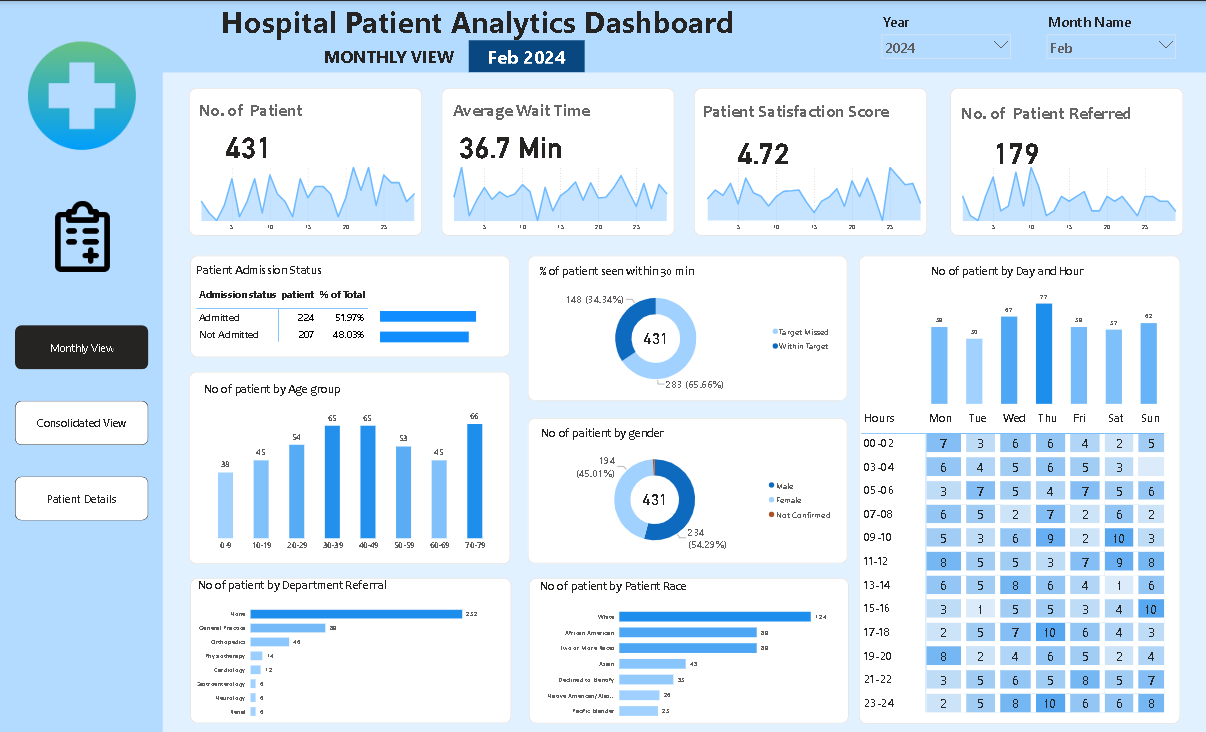

The dashboard page shown, as its layout file describes it:
{"tool":"powerbi","page":{"name":"Monthly View","canvas":[2300,1400],"ordinal":0},"visuals":[{"type":"shape","box":[0,0,310,1400],"z":0},{"type":"shape","box":[309.6,0,1990.7,140],"z":1000},{"type":"textbox","box":[309.6,0,1990.7,140.3],"z":2000},{"type":"textbox","box":[585,83.3,310,57],"z":3000},{"type":"shape","box":[360,170,445,282.5],"z":4000},{"type":"cardVisual","fields":{"Data":["Hospital ER_Data.No of patient"]},"box":[340,222.5,265,122.5],"z":5000},{"type":"slicer","fields":{"Values":["Data Table.Year"]},"box":[1670,22.5,266.1,96.8],"z":6000},{"type":"slicer","fields":{"Values":["Data Table.Month Name"]},"box":[1983.4,21.8,266.1,96.8],"z":7000},{"type":"textbox","box":[360,187.5,355,67.5],"z":8000},{"type":"areaChart","fields":{"Category":["Data Table.Date.Variation.Date Hierarchy.Day"],"Y":["Hospital ER_Data.No of patient"]},"box":[370,307.5,435,145],"z":9000},{"type":"cardVisual","fields":{"Data":["Min(Data Table.Month & Year)"]},"box":[893,79,221,61],"z":10000},{"type":"shape","box":[840,170,445,282.5],"z":11000},{"type":"cardVisual","fields":{"Data":["Hospital ER_Data.Average wait time"]},"box":[840,222.5,265,122.5],"z":12000},{"type":"textbox","box":[850,187.5,355,67.5],"z":13000},{"type":"areaChart","fields":{"Category":["Data Table.Date.Variation.Date Hierarchy.Day"],"Y":["Avg(Hospital ER_Data.Patient Waittime)"]},"box":[850,307.5,435,145],"z":14000},{"type":"shape","box":[1322.5,170,445,282.5],"z":15000},{"type":"cardVisual","fields":{"Data":["Avg(Hospital ER_Data.Patient Satisfaction Score)"]},"box":[1322.5,232.5,265,122.5],"z":16000},{"type":"textbox","box":[1332.5,190,377.5,67.5],"z":17000},{"type":"areaChart","fields":{"Category":["Data Table.Date.Variation.Date Hierarchy.Day"],"Y":["Avg(Hospital ER_Data.Patient Satisfaction Score)"]},"box":[1332.5,307.5,435,145],"z":18000},{"type":"shape","box":[1810,170,445,282.5],"z":19000},{"type":"cardVisual","fields":{"Data":["Hospital ER_Data.No of Referred"]},"box":[1802.5,232.5,265,122.5],"z":20000},{"type":"textbox","box":[1820,192.5,355,67.5],"z":21000},{"type":"areaChart","fields":{"Category":["Data Table.Date.Variation.Date Hierarchy.Day"],"Y":["Hospital ER_Data.No of Referred"]},"box":[1820,307.5,435,145],"z":22000},{"type":"shape","box":[362.5,487.5,610,195],"z":23000},{"type":"pivotTable","title":"Patient Admission Status","fields":{"Rows":["Hospital ER_Data.Admission status"],"Values":["Hospital ER_Data.No of patient","Divide(Hospital ER_Data.No of patient, ScopedEval(Hospital ER_Data.No of patient, []))"]},"box":[370,503,589,180],"z":24000},{"type":"barChart","fields":{"Category":["Hospital ER_Data.Admission status"],"Y":["Hospital ER_Data.No of patient"]},"box":[720,562.5,255,120],"z":25000},{"type":"shape","box":[360,708.8,613,367.4],"z":26000},{"type":"clusteredColumnChart","fields":{"Category":["Hospital ER_Data.Age group"],"Y":["Hospital ER_Data.No of patient"]},"box":[382.5,727.5,569.6,332.6],"z":27000},{"type":"shape","box":[362.5,1102.5,612.5,277.5],"z":28000},{"type":"clusteredBarChart","fields":{"Category":["Hospital ER_Data.Department Referral"],"Y":["Hospital ER_Data.No of patient"]},"box":[372,1102,591,279],"z":29000},{"type":"shape","box":[1004,488,610,278],"z":30000},{"type":"donutChart","title":"% of patient seen within 30 min","fields":{"Category":["Hospital ER_Data.Waittime status"],"Y":["Hospital ER_Data.No of patient"]},"box":[1024,504,570,246],"z":31000},{"type":"shape","box":[1005.5,798.2,610,278],"z":32000},{"type":"donutChart","title":"No of paitient by gender","fields":{"Category":["Hospital ER_Data.Patient Gender"],"Y":["Hospital ER_Data.No of patient"]},"box":[1025.5,812.7,570,246],"z":33000},{"type":"shape","box":[1007.3,1101.8,610,278],"z":34000},{"type":"clusteredBarChart","fields":{"Category":["Hospital ER_Data.Patient Race"],"Y":["Hospital ER_Data.No of patient"]},"box":[1023.6,1103.6,572.7,278.2],"z":35000},{"type":"shape","box":[1636.4,487.3,612.7,892.7],"z":36000},{"type":"pivotTable","title":"% of patient seen within 30 min","fields":{"Columns":["Data Table.Day column"],"Rows":["Hospital ER_Data.Waittime Interval"],"Values":["Hospital ER_Data.No of patient"]},"box":[1636.4,776.4,609.1,600],"z":37000},{"type":"columnChart","title":"No of patient by Day and Hour","fields":{"Category":["Data Table.Day column"],"Y":["Hospital ER_Data.No of patient"]},"box":[1768,504,442,272],"z":38000},{"type":"image","box":[50,80,212,206],"z":39000},{"type":"image","box":[56.5,369.6,200,166.7],"z":40000},{"type":"pageNavigator","box":[28.3,621.7,254.3,373.9],"z":40001}]}

Visuals, with their boxes in screenshot pixels (x1, y1, x2, y2), scaled from the page's 2300x1400 canvas onto the 1206x732 screenshot:
shape: (0, 0, 163, 731)
shape: (162, 0, 1205, 73)
textbox: (162, 0, 1205, 73)
textbox: (307, 44, 469, 73)
shape: (189, 89, 422, 237)
cardVisual - Hospital ER_Data.No of patient: (178, 116, 317, 180)
slicer - Data Table.Year: (876, 12, 1015, 62)
slicer - Data Table.Month Name: (1040, 11, 1180, 62)
textbox: (189, 98, 375, 133)
areaChart - Data Table.Date.Variation.Date Hierarchy.Day x Hospital ER_Data.No of patient: (194, 161, 422, 237)
cardVisual - Min(Data Table.Month & Year): (468, 41, 584, 73)
shape: (440, 89, 674, 237)
cardVisual - Hospital ER_Data.Average wait time: (440, 116, 579, 180)
textbox: (446, 98, 632, 133)
areaChart - Data Table.Date.Variation.Date Hierarchy.Day x Avg(Hospital ER_Data.Patient Waittime): (446, 161, 674, 237)
shape: (693, 89, 927, 237)
cardVisual - Avg(Hospital ER_Data.Patient Satisfaction Score): (693, 122, 832, 186)
textbox: (699, 99, 897, 135)
areaChart - Data Table.Date.Variation.Date Hierarchy.Day x Avg(Hospital ER_Data.Patient Satisfaction Score): (699, 161, 927, 237)
shape: (949, 89, 1182, 237)
cardVisual - Hospital ER_Data.No of Referred: (945, 122, 1084, 186)
textbox: (954, 101, 1140, 136)
areaChart - Data Table.Date.Variation.Date Hierarchy.Day x Hospital ER_Data.No of Referred: (954, 161, 1182, 237)
shape: (190, 255, 510, 357)
"Patient Admission Status" pivotTable: (194, 263, 503, 357)
barChart - Hospital ER_Data.Admission status x Hospital ER_Data.No of patient: (378, 294, 511, 357)
shape: (189, 371, 510, 563)
clusteredColumnChart - Hospital ER_Data.Age group x Hospital ER_Data.No of patient: (201, 380, 499, 554)
shape: (190, 576, 511, 722)
clusteredBarChart - Hospital ER_Data.Department Referral x Hospital ER_Data.No of patient: (195, 576, 505, 722)
shape: (526, 255, 846, 401)
"% of patient seen within 30 min" donutChart: (537, 264, 836, 392)
shape: (527, 417, 847, 563)
"No of paitient by gender" donutChart: (538, 425, 837, 554)
shape: (528, 576, 848, 721)
clusteredBarChart - Hospital ER_Data.Patient Race x Hospital ER_Data.No of patient: (537, 577, 837, 722)
shape: (858, 255, 1179, 722)
"% of patient seen within 30 min" pivotTable: (858, 406, 1177, 720)
"No of patient by Day and Hour" columnChart: (927, 264, 1159, 406)
image: (26, 42, 137, 150)
image: (30, 193, 134, 280)
pageNavigator: (15, 325, 148, 521)
